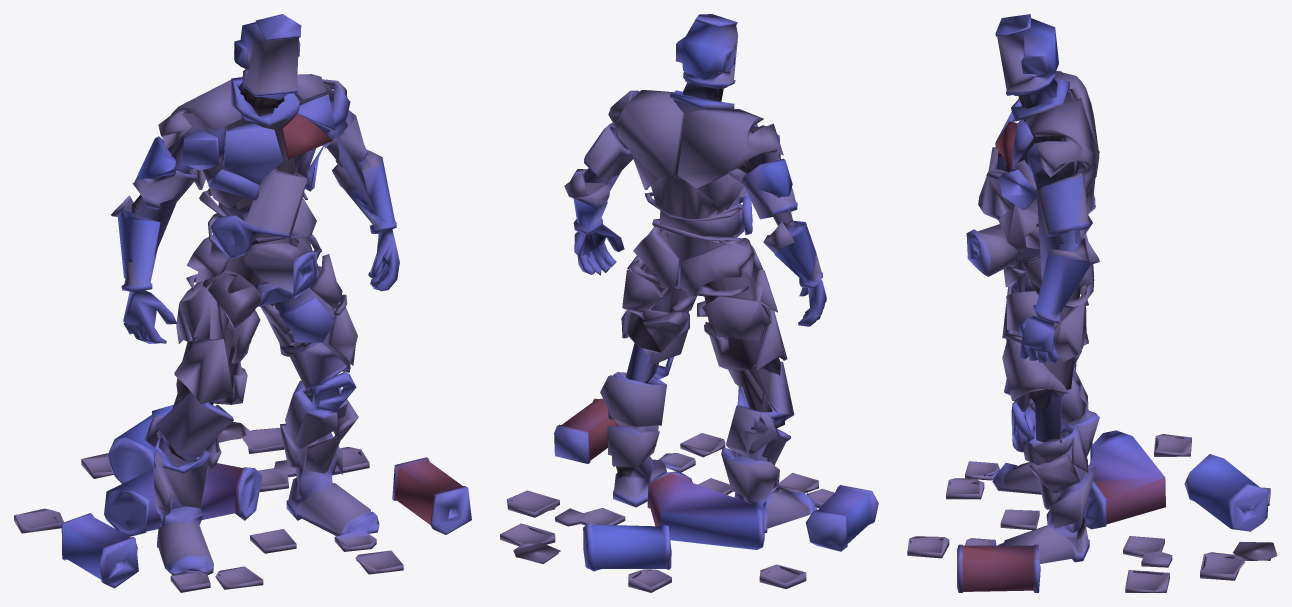
File: model.progressive.glb
The picture shows the model from 3 angles, left to right: view 1: azimuth 30°, elevation 25°; view 2: azimuth 150°, elevation 25°; view 3: azimuth 270°, elevation 25°; orthographic projection. The views are drawn at different scales.
Visible parts, largest first — view 1: material; view 2: material; view 3: material.
Part boxes in pixels (x1,y1,x2,y2): material: (14,14,471,592); material: (500,14,878,592); material: (907,14,1277,592).
Size of the model in its own units: 1.32 by 1.89 by 1.26.
1 material, 1 textured.
